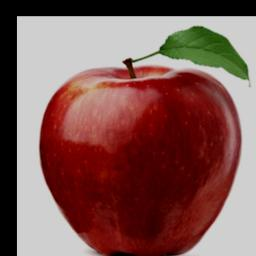Apple Ripe: (6, 30, 256, 256)
